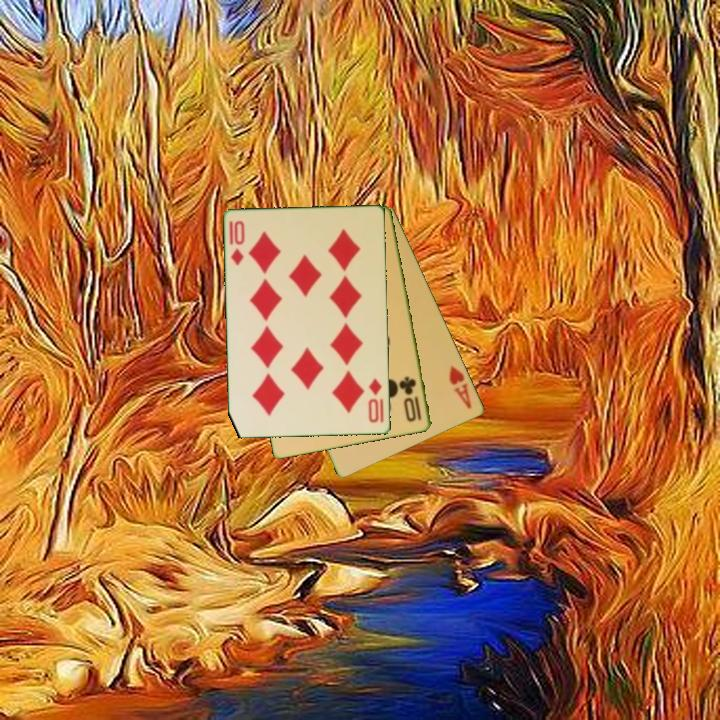10c: (397, 373, 425, 425)
10d: (227, 217, 248, 268), (365, 375, 385, 426)
Ah: (446, 362, 475, 412)
